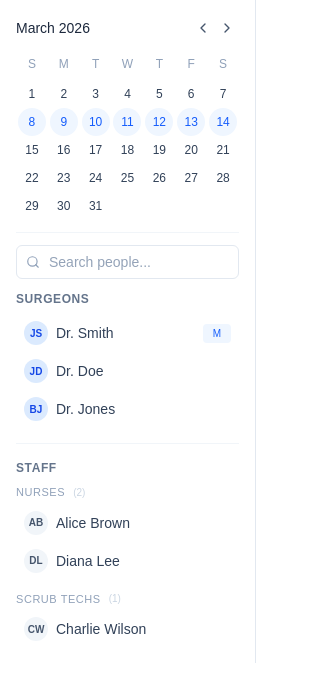
it: RoomScheduleSidebar › search filtering › filters staff by search query
This screenshot has width=320, height=680.
Expected: the text "Alice Brown" is shown, [56, 514, 130, 530]
Type "Wilson" into the field with placeholder "Search people..." at (128, 262), box [16, 245, 239, 279]
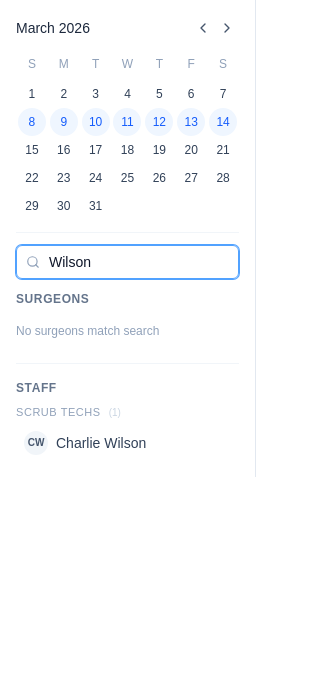
Expected: the text "Charlie Wilson" is shown, [56, 434, 146, 450]
Expected: the button "Alice Brown" is gone
